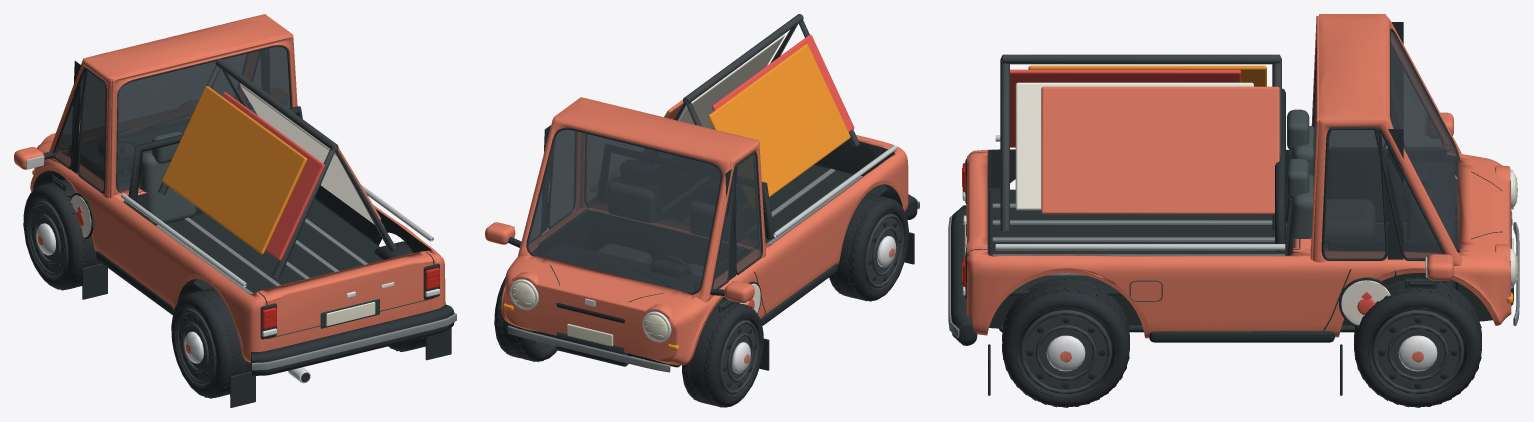
File: pitbody_lod1.fbx
3 renders of one model, left to right at view 1: azimuth 30°, elevation 25°; view 2: azimuth 150°, elevation 25°; view 3: azimuth 270°, elevation 25°, orthographic. The views are drawn at different scales.
Parts seen in each view (by area): view 1: Body, Wheel_RL_Mesh, Wheel_FL_Mesh, Wheel_RR_Mesh; view 2: Body, Wheel_FL_Mesh, Wheel_RL_Mesh, Wheel_FR_Mesh; view 3: Body, Wheel_RR_Mesh, Wheel_FR_Mesh.
Boxes of the visible parts, left/top/right/bottom form: Body: left=14, top=14, right=456, bottom=407; Wheel_RL_Mesh: left=171, top=288, right=250, bottom=398; Wheel_FL_Mesh: left=23, top=179, right=100, bottom=290; Wheel_RR_Mesh: left=374, top=241, right=445, bottom=351; Body: left=485, top=14, right=919, bottom=372; Wheel_FL_Mesh: left=682, top=299, right=763, bottom=407; Wheel_RL_Mesh: left=829, top=193, right=908, bottom=301; Wheel_FR_Mesh: left=494, top=276, right=557, bottom=361; Body: left=948, top=14, right=1519, bottom=395; Wheel_RR_Mesh: left=1002, top=277, right=1129, bottom=407; Wheel_FR_Mesh: left=1354, top=277, right=1481, bottom=407.
Bounding box in the file's own units: 230 × 200 × 357.
